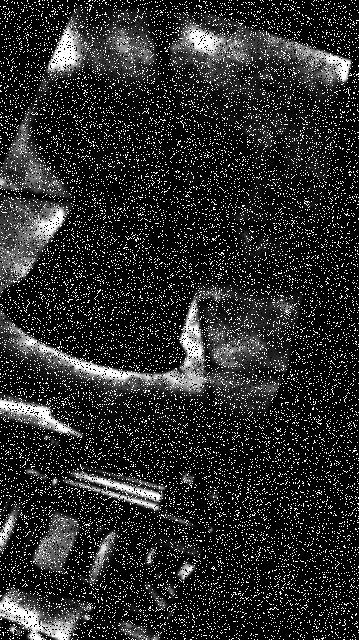pot: (2, 177, 211, 371)
